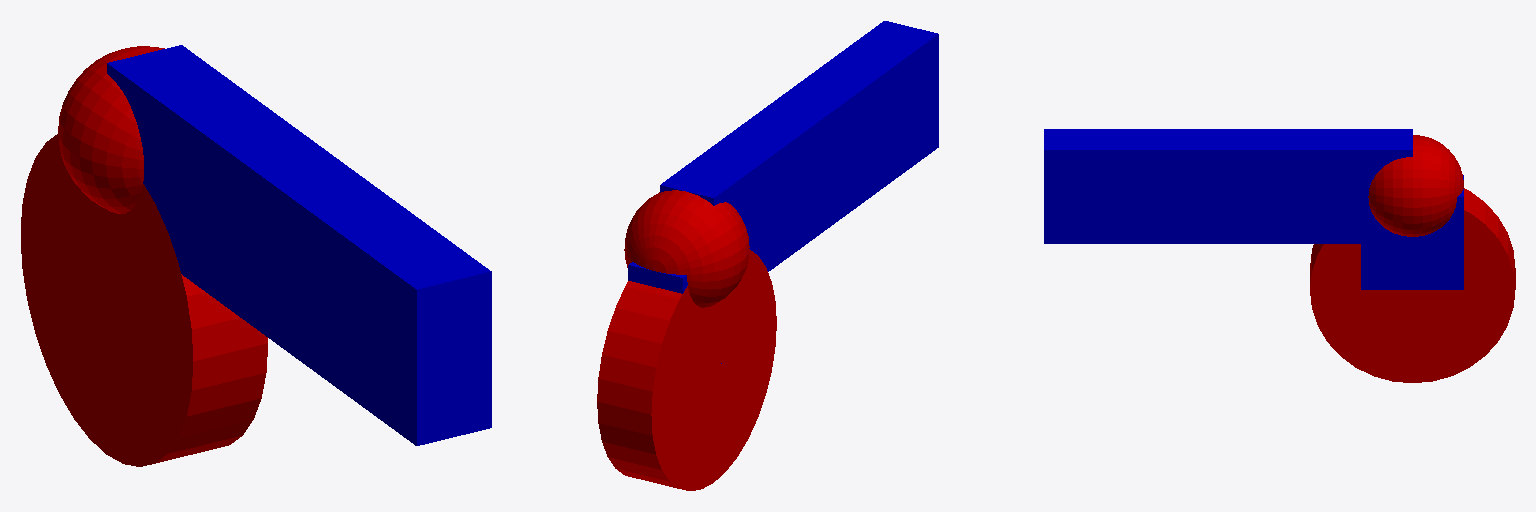
URDF robot description (TwoLinkStruct351020199):
<?xml version="1.0"?>
<robot  name="TwoLinkStruct351020199" >
 <material  name="blue" >
  <color  rgba="0 0 0.8 1.0" />
 </material>
 <material  name="red" >
  <color  rgba="0.8 0 0 1.0" />
 </material>
 <link  name="base_link" >
  <visual >
   <origin  rpy="0 1.5707 0"  xyz="0 0 0" />
   <material  name="red" />
   <geometry >
    <cylinder  length="0.05"  radius="0.1" />
   </geometry>
  </visual>
 </link>
 <joint  type="revolute"  name="joint1" >
  <parent  link="base_link" />
  <child  link="link1" />
  <origin  xyz="0 0 0"  rpy="0 0 0" />
  <axis  xyz="1 0 0" />
 </joint>
 <link  name="link1" >
  <inertial >
   <origin  rpy="0 0 0"  xyz="0 0 0.050021208527576605" />
   <mass  value="0.36869410649768136" />
   <inertia  ixy="0.0"  iyy="0.00015362254437403393"  izz="0.00038431706485232253"  ixz="0.0"  ixx="0.00038431706485232253"  iyz="0.0" />
  </inertial>
  <visual >
   <origin  rpy="0 0 0"  xyz="0 0 0.050021208527576605" />
   <material  name="blue" />
   <geometry >
    <box  size="0.05 0.1 0.10004241705515321" />
   </geometry>
  </visual>
 </link>
 <joint  type="fixed"  name="joint-joint-1" >
  <parent  link="link1" />
  <child  link="joint-link-1" />
  <origin  xyz="0 0 0.10004241705515321"  rpy="1.5707 0 0" />
  <axis  xyz="1 0 0" />
 </joint>
 <link  name="joint-link-1" >
  <inertial >
   <origin  rpy="0 0 0"  xyz="0 0 0" />
   <mass  value="3.754530818366583" />
   <inertia  ixy="0"  iyy="0"  izz="0"  ixz="0"  ixx="0"  iyz="0" />
  </inertial>
  <visual >
   <origin  rpy="0 0 0"  xyz="0 0 0" />
   <material  name="red" />
   <geometry >
    <sphere  radius="0.05" />
   </geometry>
  </visual>
 </link>
 <joint  type="revolute"  name="joint2" >
  <parent  link="link1" />
  <child  link="link2" />
  <origin  xyz="0 0 0.10004241705515321"  rpy="1.5707 0 0" />
  <axis  xyz="1 0 0" />
 </joint>
 <link  name="link2" >
  <inertial >
   <origin  rpy="0 0 0"  xyz="0 0 0.17909812444377343" />
   <mass  value="0.7904214453607784" />
   <inertia  ixy="0.0"  iyy="0.00015362254437403393"  izz="0.004018905640821959"  ixz="0.0"  ixx="0.004018905640821959"  iyz="0.0" />
  </inertial>
  <visual >
   <origin  rpy="0 0 0"  xyz="0 0 0.17909812444377343" />
   <material  name="blue" />
   <geometry >
    <box  size="0.05 0.1 0.35819624888754686" />
   </geometry>
  </visual>
 </link>
 <joint  type="fixed"  name="eef_joint" >
  <parent  link="link2" />
  <child  link="eef" />
  <origin  xyz="0 0 0.35819624888754686"  rpy="0 0 0" />
 </joint>
 <link  name="eef" >
  <inertial >
   <origin  rpy="0 0 0"  xyz="0 0 0" />
   <mass  value="1" />
   <inertia  ixy="0"  iyy="0"  izz="0"  ixz="0"  ixx="0"  iyz="0" />
  </inertial>
 </link>
 <transmission  name="motor1" >
  <type  xmltext="SimpleTransmission" >
   SimpleTransmission
  </type>
  <actuator  name="motor1" >
   <mechanicalreduction  xmltext="1" >
    1
   </mechanicalreduction>
  </actuator>
  <joint  name="joint1" />
 </transmission>
 <transmission  name="motor2" >
  <type  xmltext="SimpleTransmission" >
   SimpleTransmission
  </type>
  <actuator  name="motor2" >
   <mechanicalreduction  xmltext="1" >
    1
   </mechanicalreduction>
  </actuator>
  <joint  name="joint2" />
 </transmission>
</robot>

<!-- {'carti': array([-0.1 ,  0.14,  0.85]), 'cartd': array([-0.1 ,  0.32,  1.29]), 'tau_mu': 0.0264869859407042, 'b0': 0.28152194289807575, 'Km': 0.6774034784843358, 'k_velocity': 55.81946463777245, 'tau_max_m': 0.6768797503479379, 'omega_max_m': 8892.201794258392, 'gear_ratio': 12.785679741490874, 'Kp': 13.341392389566927, 'Kd': 84.26110827265744, 'm_m': 3.754530818366583, 'l1': 0.10004241705515321, 'l2': 0.35819624888754686, 'k1': 3126.2453274007353, 'k2': 274861743.7960598, 'k3': 76767797.71800674}-->

--- Facts derived from the render (not from the file) ---
The picture shows the robot from 3 angles, left to right: view 1: azimuth 30°, elevation 25°; view 2: azimuth 150°, elevation 25°; view 3: azimuth 270°, elevation 25°; orthographic projection.
Model TwoLinkStruct351020199 with 5 links and 4 joints (2 revolute, 2 fixed), rooted at base_link, posed all joints at 0.
Visible links, largest first — view 1: link2, base_link, joint-link-1; view 2: link2, base_link, joint-link-1, link1; view 3: link2, base_link, joint-link-1, link1.
Link boxes in pixels (left/top/right/bottom): link2: left=107, top=45, right=491, bottom=445; base_link: left=21, top=134, right=267, bottom=466; joint-link-1: left=58, top=46, right=164, bottom=213; link2: left=660, top=21, right=938, bottom=271; base_link: left=597, top=249, right=776, bottom=490; joint-link-1: left=624, top=190, right=749, bottom=307; link1: left=628, top=262, right=721, bottom=363; link2: left=1044, top=129, right=1412, bottom=243; base_link: left=1310, top=188, right=1515, bottom=382; joint-link-1: left=1368, top=135, right=1463, bottom=236; link1: left=1361, top=175, right=1463, bottom=289.
Size in the robot's own frame: 0.1 by 0.4582 by 0.2501 metres.
Geometry: primitives only (box / cylinder / sphere), no mesh files.
